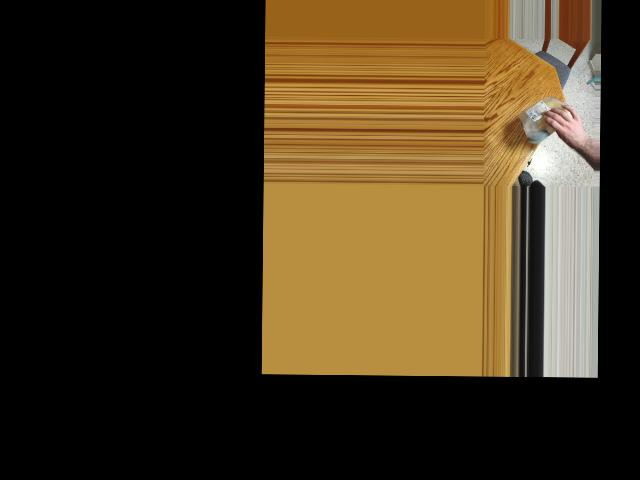cheese: (520, 94, 576, 141)
